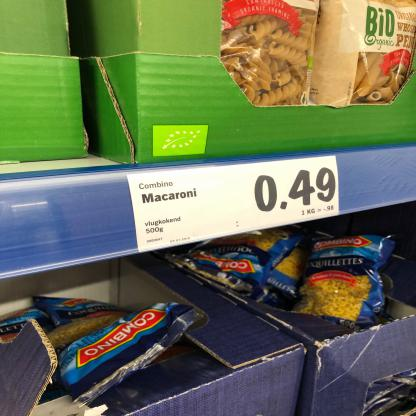prtg: (128, 157, 341, 253)
